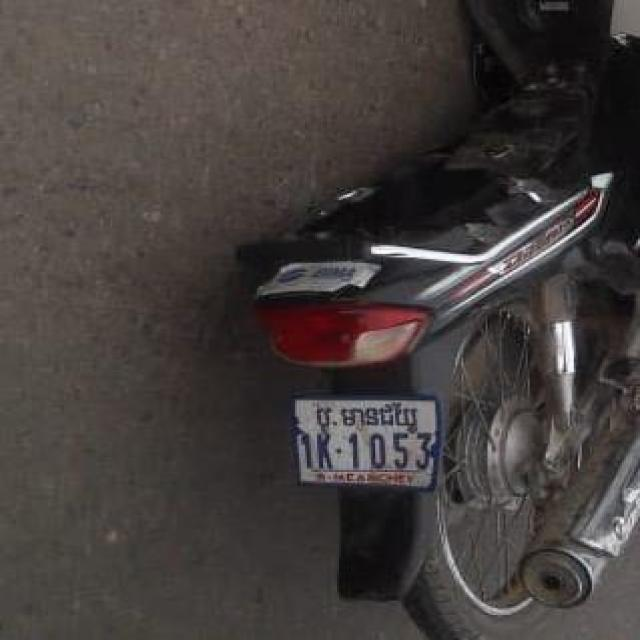Banteay_Meanchey: (315, 404, 417, 427)
